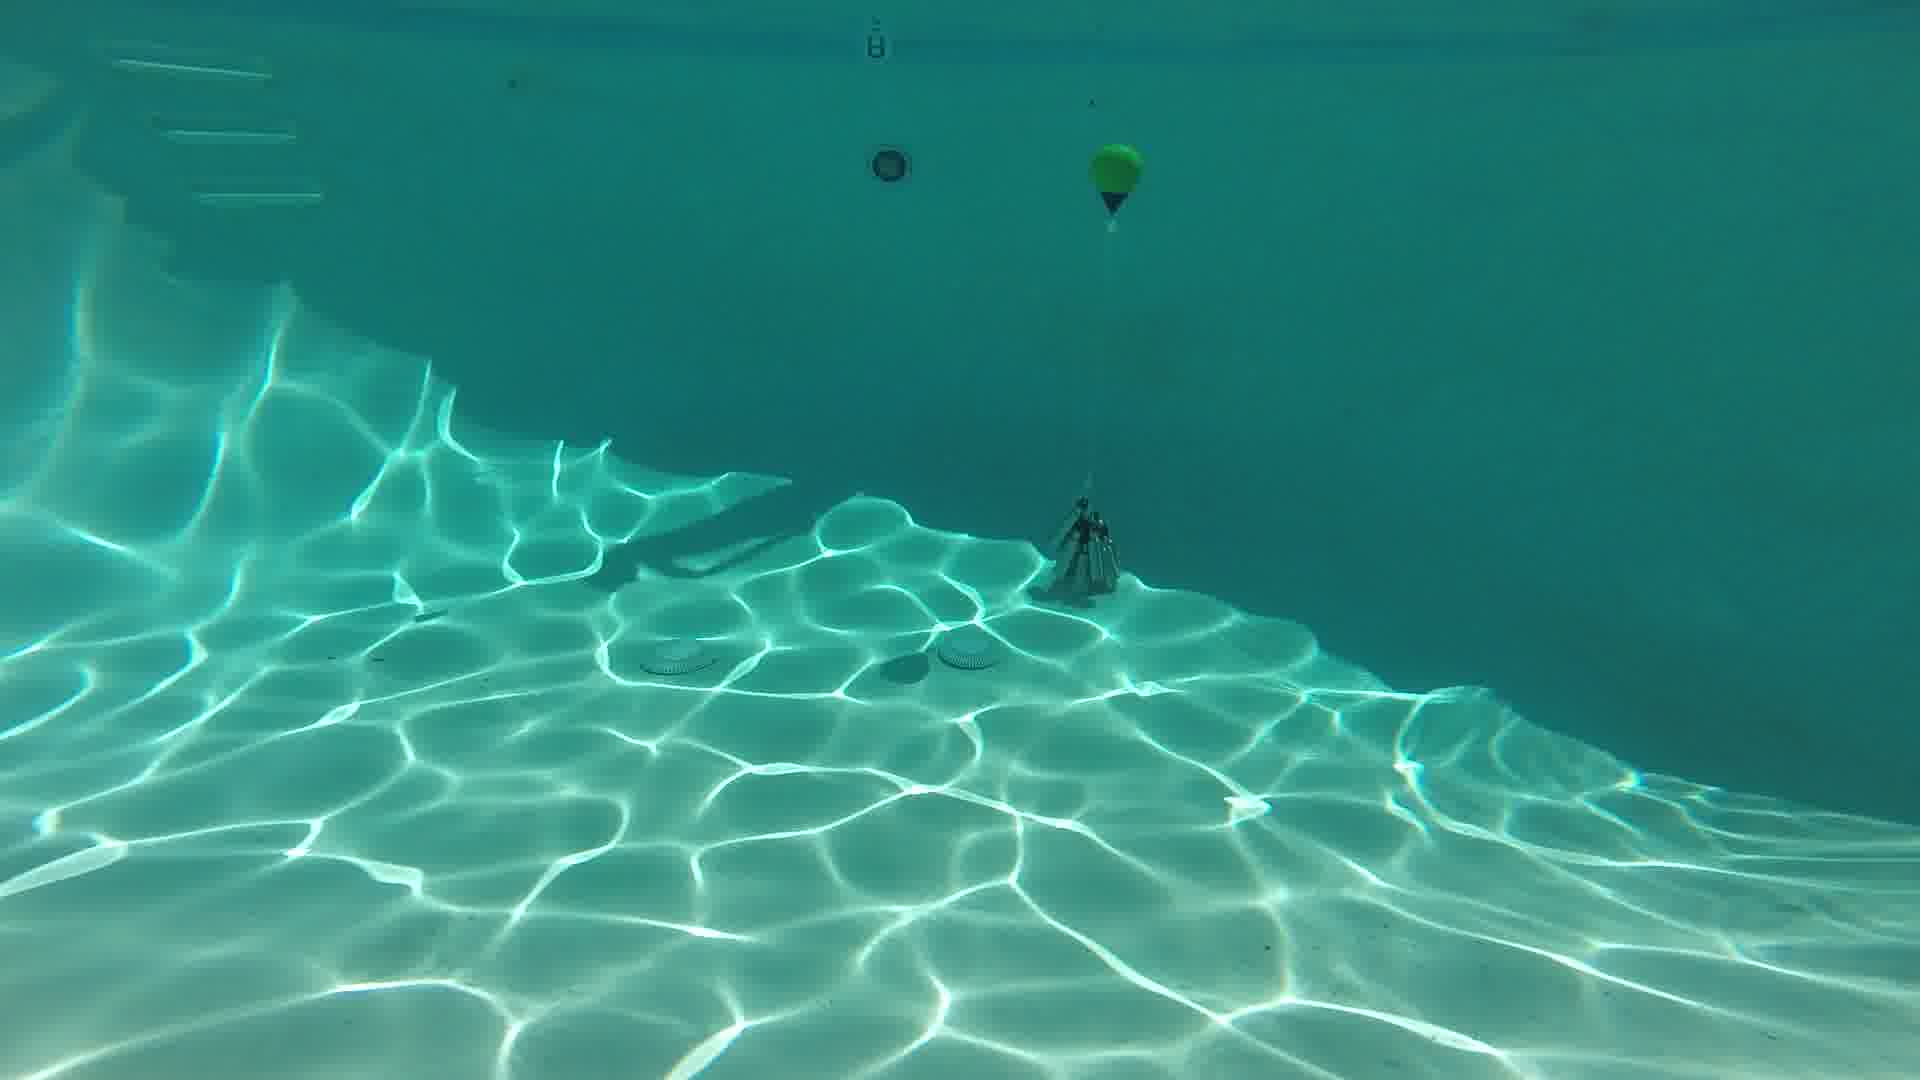yellow_buoy: (1091, 145, 1139, 215)
